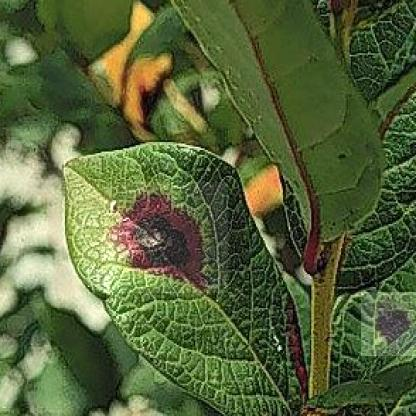black-spot: (105, 182, 228, 293), (361, 292, 416, 356)
